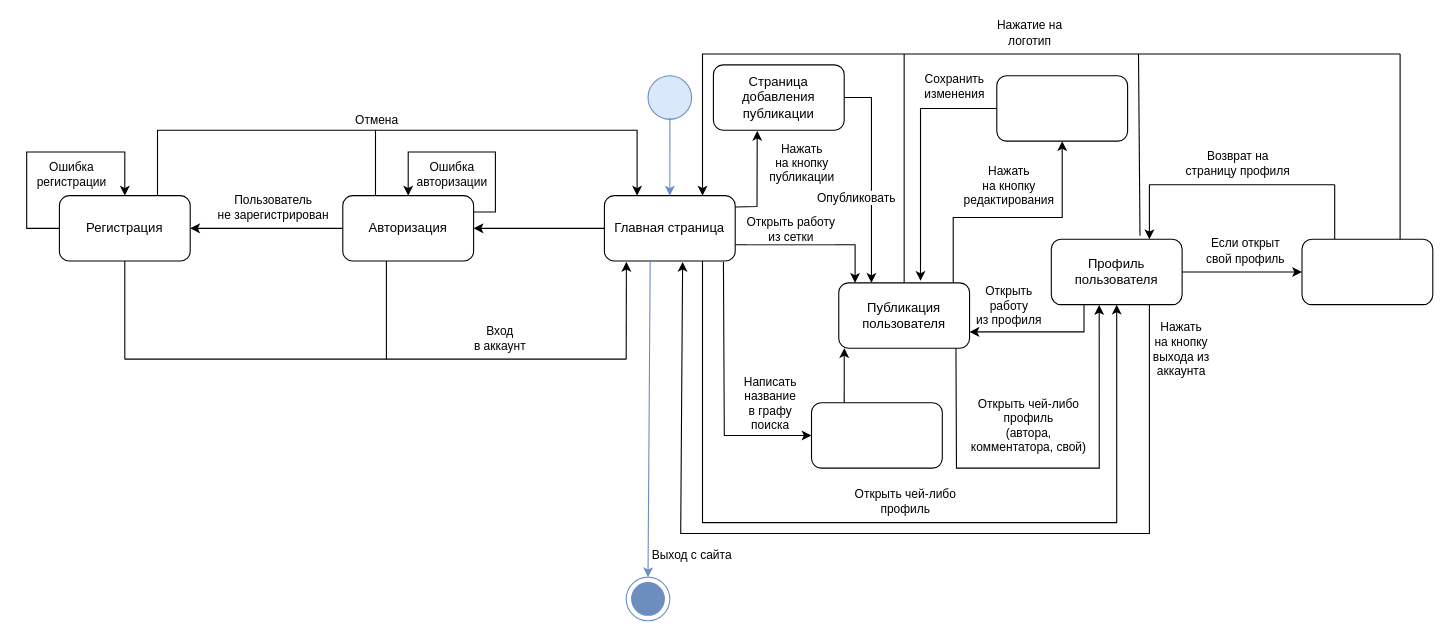
The diagram is 1452 pixels wide and 640 high, and some of its shapes have lost their labels. The box of each missing label's shape, as (x1, y1, x2, y2) in pixels:
Найденные по названию публикации: (810, 402, 942, 468)
Страница редактирования аккаунта пользователя: (1301, 238, 1433, 305)
Страница редактирования публикации: (996, 75, 1128, 141)
